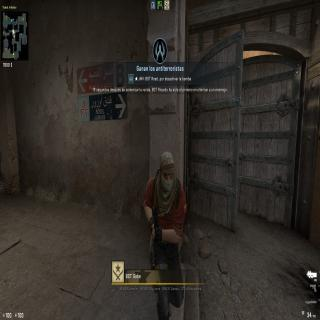T-Head: (157, 148, 176, 197)
